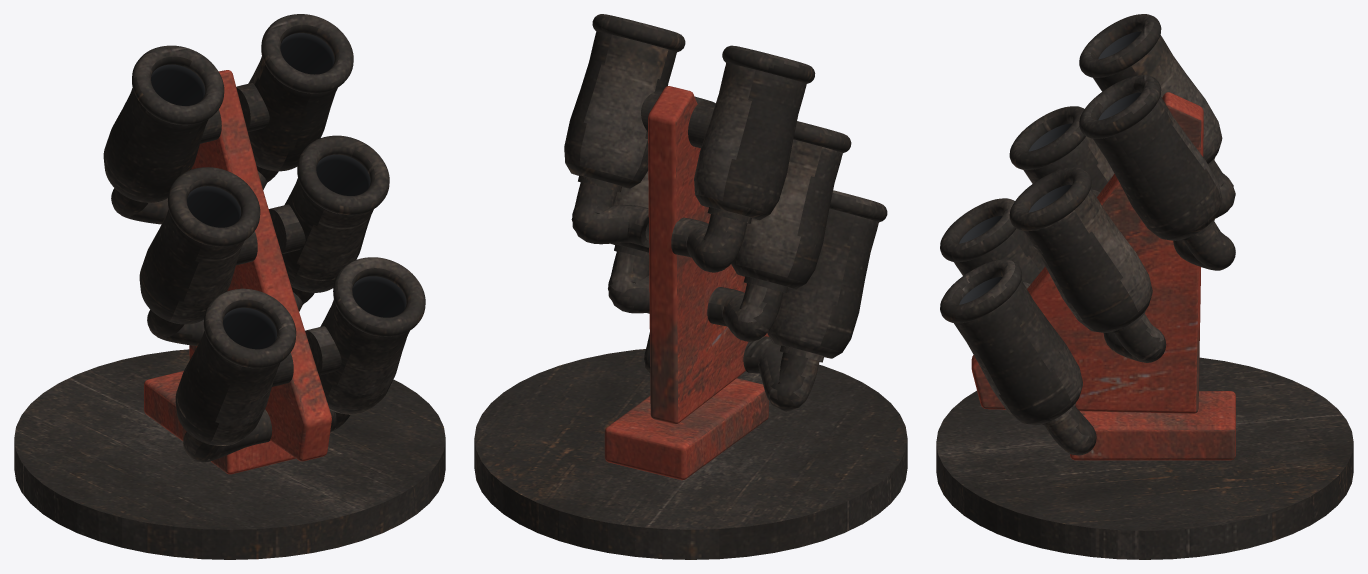
Rendered from six_cast_iron_lobber_v04.glb.
3 views of the same model, side by side, from view 1: azimuth 30°, elevation 25°; view 2: azimuth 150°, elevation 25°; view 3: azimuth 270°, elevation 25° (orthographic). The views are drawn at different scales.
Visible parts, largest first — view 1: ROTARY_ADAPTER, CAST_CANNON_LEFT_3, CAST_CANNON_LEFT_2, CAST_CANNON_LEFT_1, CENTRAL_FIN, ROUNDED_MUZZLE_LEFT_1, ROUNDED_MUZZLE_LEFT_2, ROUNDED_MUZZLE_LEFT_3, FIN_ROOT, BOTTOM_FEED_LEFT_3, FIN_TO_CANNON_MOUNT_2, FIN_TO_CANNON_MOUNT_3 (+3 smaller); view 2: ROTARY_ADAPTER, CAST_CANNON_LEFT_1, CENTRAL_FIN, CAST_CANNON_LEFT_2, FIN_ROOT, CAST_CANNON_LEFT_3, BOTTOM_FEED_LEFT_1, BOTTOM_FEED_LEFT_2, BOTTOM_FEED_LEFT_3, ROUNDED_MUZZLE_LEFT_1, FIN_TO_CANNON_MOUNT_1, ROUNDED_MUZZLE_LEFT_2 (+3 smaller); view 3: ROTARY_ADAPTER, CENTRAL_FIN, CAST_CANNON_LEFT_1, CAST_CANNON_LEFT_3, CAST_CANNON_LEFT_2, FIN_ROOT, ROUNDED_MUZZLE_LEFT_1, ROUNDED_MUZZLE_LEFT_2, ROUNDED_MUZZLE_LEFT_3, BOTTOM_FEED_LEFT_1, BOTTOM_FEED_LEFT_2, BOTTOM_FEED_LEFT_3.
Boxes of the visible parts, box(x1,y1,x2,y2) form: ROTARY_ADAPTER: box(14, 349, 445, 559); CAST_CANNON_LEFT_3: box(175, 276, 409, 445); CAST_CANNON_LEFT_2: box(139, 154, 373, 324); CAST_CANNON_LEFT_1: box(103, 33, 337, 202); CENTRAL_FIN: box(189, 70, 331, 461); ROUNDED_MUZZLE_LEFT_1: box(132, 14, 353, 125); ROUNDED_MUZZLE_LEFT_2: box(167, 135, 389, 246); ROUNDED_MUZZLE_LEFT_3: box(203, 257, 425, 368); FIN_ROOT: box(144, 371, 295, 474); BOTTOM_FEED_LEFT_3: box(183, 409, 350, 462); FIN_TO_CANNON_MOUNT_2: box(236, 204, 305, 265); FIN_TO_CANNON_MOUNT_3: box(272, 326, 341, 386); ROTARY_ADAPTER: box(474, 349, 907, 559); CAST_CANNON_LEFT_1: box(564, 31, 806, 220); CENTRAL_FIN: box(648, 86, 768, 424); CAST_CANNON_LEFT_2: box(611, 139, 842, 289); FIN_ROOT: box(604, 378, 768, 480); CAST_CANNON_LEFT_3: box(647, 208, 878, 358); BOTTOM_FEED_LEFT_1: box(571, 182, 747, 272); BOTTOM_FEED_LEFT_2: box(608, 251, 783, 341); BOTTOM_FEED_LEFT_3: box(644, 332, 819, 411); ROUNDED_MUZZLE_LEFT_1: box(592, 14, 815, 83); FIN_TO_CANNON_MOUNT_1: box(641, 90, 715, 148); ROUNDED_MUZZLE_LEFT_2: box(695, 96, 851, 152); ROTARY_ADAPTER: box(936, 357, 1353, 559); CENTRAL_FIN: box(971, 92, 1203, 413); CAST_CANNON_LEFT_1: box(1093, 31, 1222, 240); CAST_CANNON_LEFT_3: box(954, 216, 1082, 425); CAST_CANNON_LEFT_2: box(1023, 123, 1152, 332); FIN_ROOT: box(1070, 391, 1235, 460); ROUNDED_MUZZLE_LEFT_1: box(1079, 14, 1161, 138); ROUNDED_MUZZLE_LEFT_2: box(1009, 106, 1091, 231); ROUNDED_MUZZLE_LEFT_3: box(940, 198, 1021, 323); BOTTOM_FEED_LEFT_1: box(1173, 160, 1235, 270); BOTTOM_FEED_LEFT_2: box(1103, 313, 1166, 362); BOTTOM_FEED_LEFT_3: box(1043, 406, 1096, 455).
Bounding box in the file's own units: 1.56 × 1.73 × 1.56.
3 materials, 2 textured.
